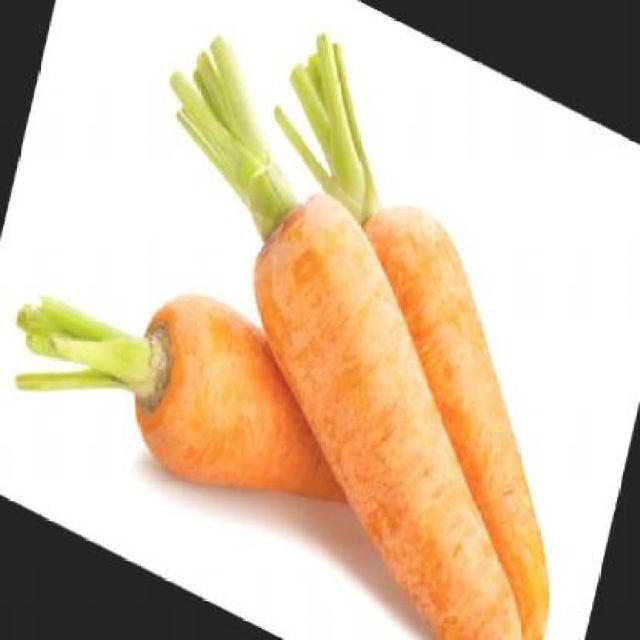carrot: (190, 166, 601, 639), (293, 184, 622, 638), (118, 268, 377, 554)
